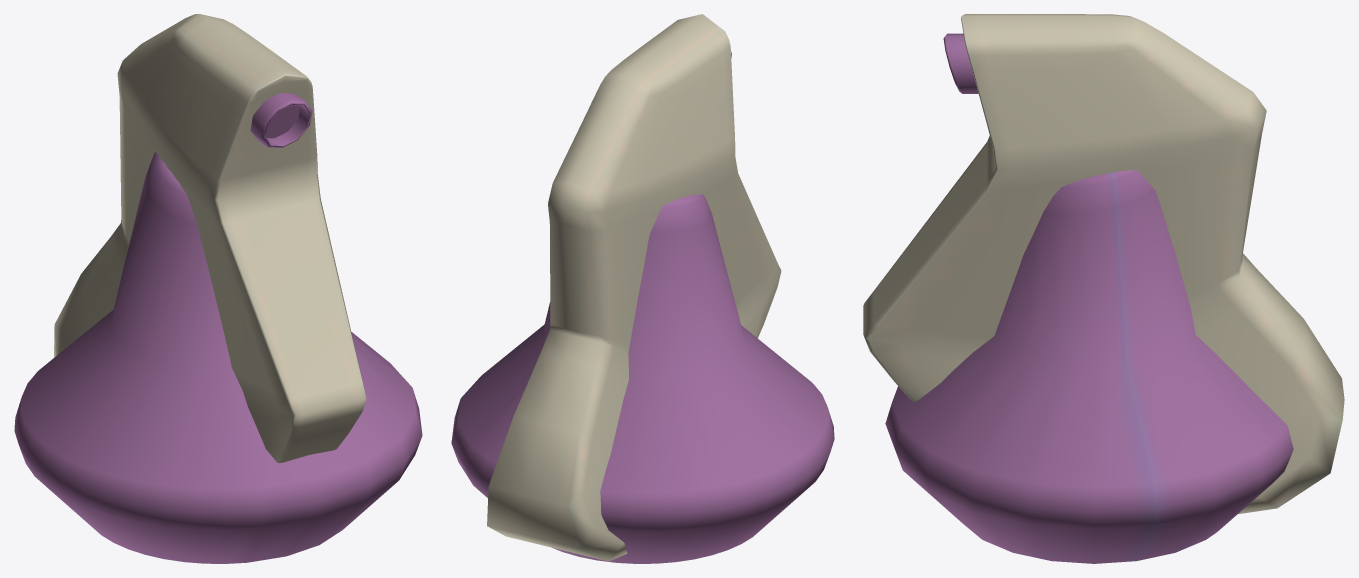
3 views of the same model, side by side, from view 1: azimuth 30°, elevation 25°; view 2: azimuth 150°, elevation 25°; view 3: azimuth 270°, elevation 25° (orthographic). The views are drawn at different scales.
Visible parts, largest first — view 1: it0102; view 2: it0102; view 3: it0102.
Part boxes in pixels (left/top/right/bottom): it0102: left=14, top=14, right=422, bottom=563; it0102: left=451, top=14, right=834, bottom=563; it0102: left=863, top=14, right=1344, bottom=563.
Size of the model in its own units: 0.06 by 0.078 by 0.0692.
1 material, 1 textured.
